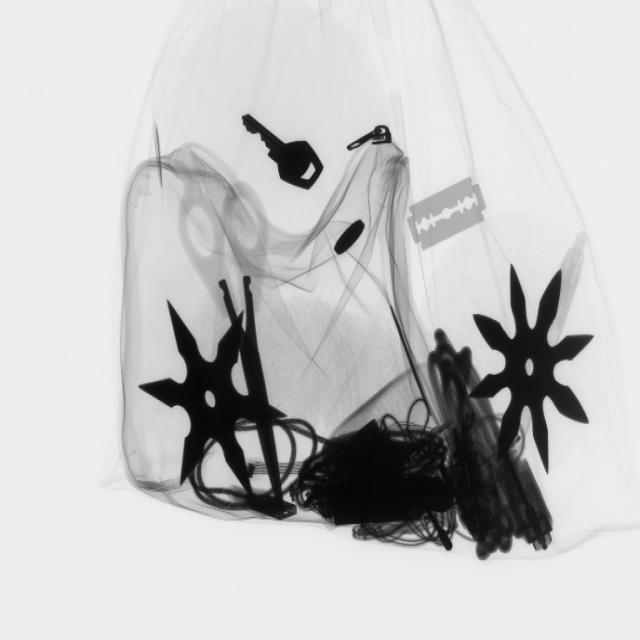BLADE: (403, 173, 493, 259)
GUN: (131, 102, 187, 219)
SHURIKEN: (140, 286, 278, 498), (464, 261, 594, 475)
